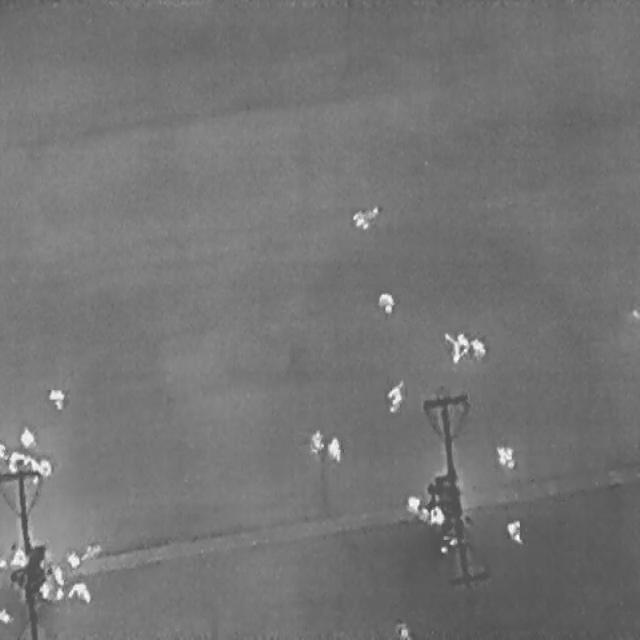Person: (348, 201, 382, 235), (443, 328, 470, 363), (386, 382, 403, 417), (375, 287, 394, 315), (66, 582, 92, 602), (45, 386, 66, 410), (495, 442, 514, 468), (325, 434, 341, 464), (470, 335, 486, 364), (18, 422, 34, 448), (506, 518, 522, 542), (394, 618, 413, 638), (8, 448, 25, 470), (309, 428, 323, 452), (21, 455, 38, 474), (405, 492, 419, 514), (431, 505, 445, 527), (9, 548, 26, 566), (37, 457, 51, 475), (0, 606, 11, 628), (37, 581, 49, 601), (65, 549, 79, 566), (51, 565, 62, 585), (54, 585, 64, 601), (0, 439, 6, 460), (0, 556, 5, 570)
